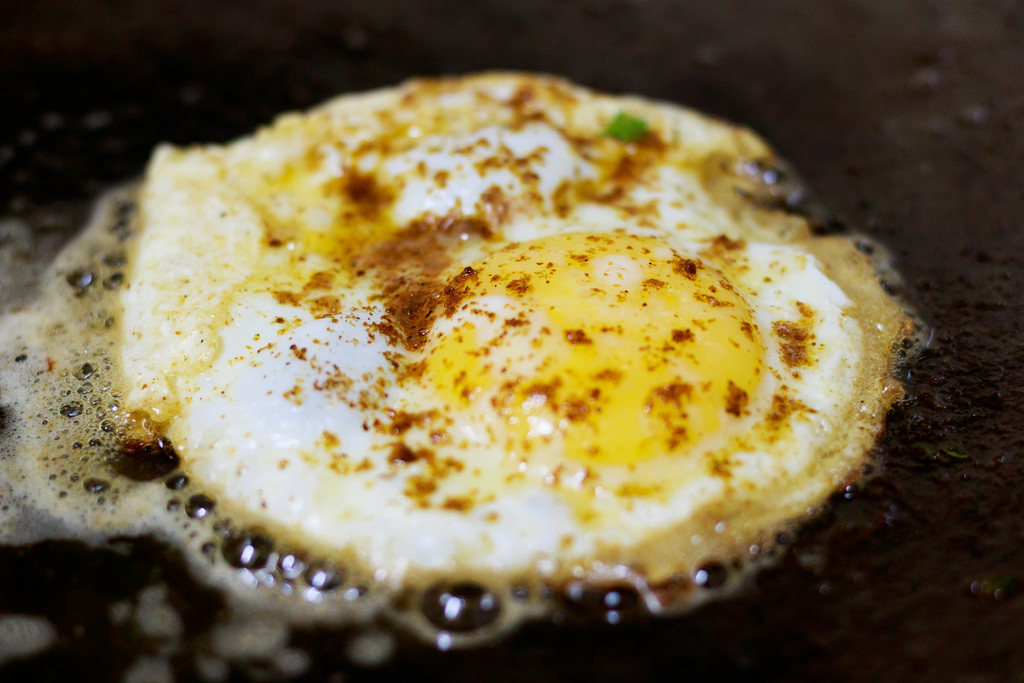fried egg: (140, 112, 842, 569)
